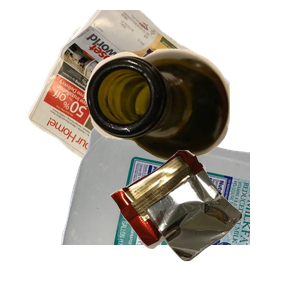glass: (82, 46, 300, 199)
paper: (23, 10, 245, 190)
plastic: (58, 120, 298, 300)
trash: (107, 148, 300, 300)
